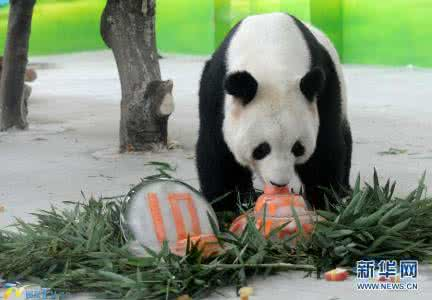panda: (197, 9, 361, 228)
